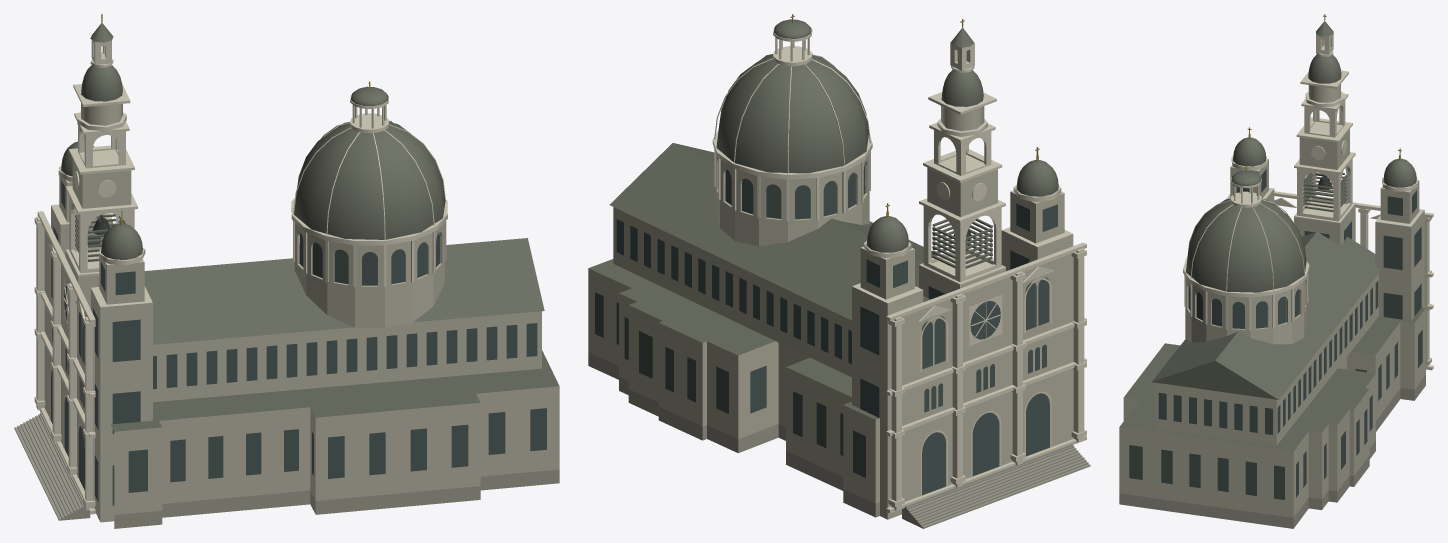
File: cathedral-blessed-sacrament-sacramento-far.glb
3 renders of one model, left to right at view 1: azimuth 30°, elevation 25°; view 2: azimuth 150°, elevation 25°; view 3: azimuth 270°, elevation 25°, orthographic. The views are drawn at different scales.
Parts seen in each view (by area): view 1: cathedral-blessed-sacrament-sacramento-0-stone, cathedral-blessed-sacrament-sacramento-0-roof, cathedral-blessed-sacrament-sacramento-0-glass, cathedral-blessed-sacrament-sacramento-0-trim, cathedral-blessed-sacrament-sacramento-0-base; view 2: cathedral-blessed-sacrament-sacramento-0-stone, cathedral-blessed-sacrament-sacramento-0-roof, cathedral-blessed-sacrament-sacramento-0-trim, cathedral-blessed-sacrament-sacramento-0-glass, cathedral-blessed-sacrament-sacramento-0-base; view 3: cathedral-blessed-sacrament-sacramento-0-stone, cathedral-blessed-sacrament-sacramento-0-roof, cathedral-blessed-sacrament-sacramento-0-glass, cathedral-blessed-sacrament-sacramento-0-trim, cathedral-blessed-sacrament-sacramento-0-base.
Boxes of the visible parts, bbox=[...] form: cathedral-blessed-sacrament-sacramento-0-stone: bbox=[44, 103, 559, 522]; cathedral-blessed-sacrament-sacramento-0-roof: bbox=[61, 23, 559, 431]; cathedral-blessed-sacrament-sacramento-0-glass: bbox=[51, 180, 546, 505]; cathedral-blessed-sacrament-sacramento-0-trim: bbox=[34, 40, 447, 514]; cathedral-blessed-sacrament-sacramento-0-base: bbox=[14, 412, 559, 528]; cathedral-blessed-sacrament-sacramento-0-stone: bbox=[588, 105, 1073, 519]; cathedral-blessed-sacrament-sacramento-0-roof: bbox=[588, 19, 1058, 419]; cathedral-blessed-sacrament-sacramento-0-trim: bbox=[712, 28, 1086, 513]; cathedral-blessed-sacrament-sacramento-0-glass: bbox=[595, 163, 1057, 495]; cathedral-blessed-sacrament-sacramento-0-base: bbox=[588, 352, 1090, 528]; cathedral-blessed-sacrament-sacramento-0-stone: bbox=[1119, 84, 1425, 517]; cathedral-blessed-sacrament-sacramento-0-roof: bbox=[1119, 21, 1425, 451]; cathedral-blessed-sacrament-sacramento-0-glass: bbox=[1129, 169, 1422, 499]; cathedral-blessed-sacrament-sacramento-0-trim: bbox=[1183, 31, 1433, 370]; cathedral-blessed-sacrament-sacramento-0-base: bbox=[1119, 375, 1425, 528].
Bounding box in the file's own units: 71.92 × 65.53 × 51.49.
